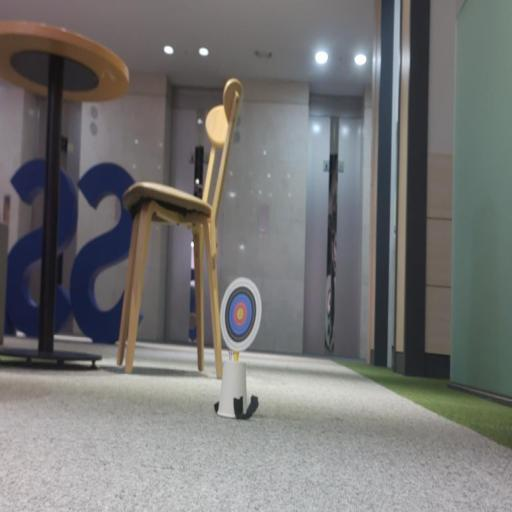target: (220, 277, 261, 352)
